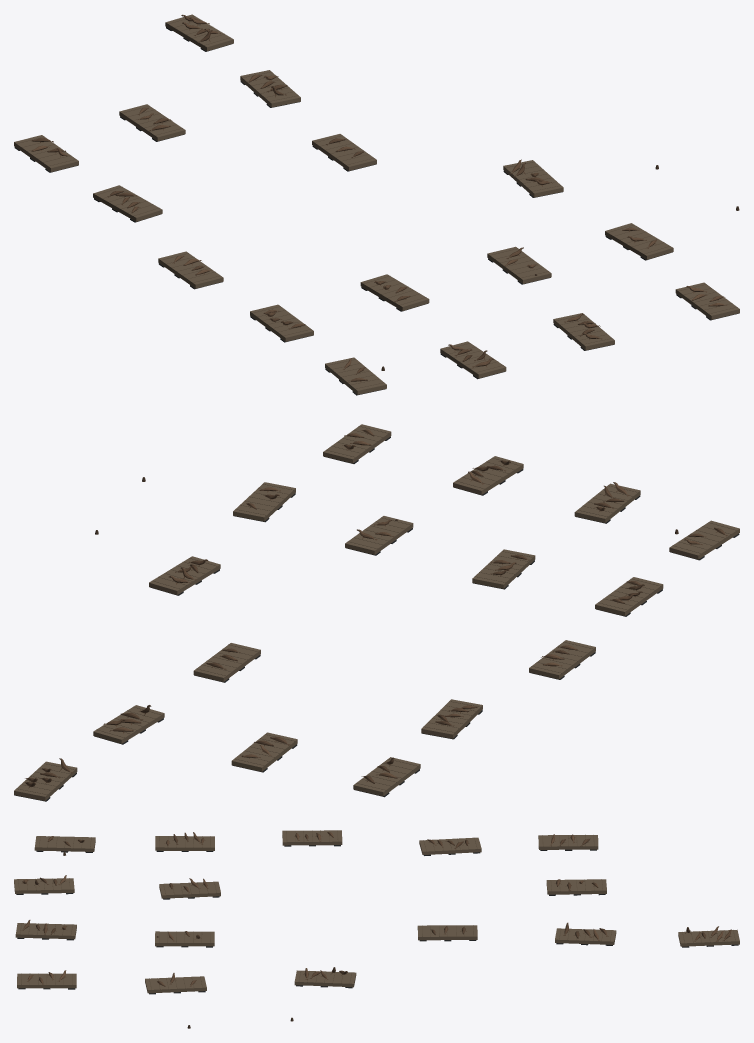
File: seaLions_lod0.glb
The picture shows the model from 3 angles, top to bottom: view 1: azimuth 30°, elevation 25°; view 2: azimuth 150°, elevation 25°; view 3: azimuth 270°, elevation 25°; orthographic projection. The views are drawn at different scales.
Visible parts, largest first — view 1: L0_wood, L0_paint, L0_plain; view 2: L0_wood, L0_paint, L0_plain; view 3: L0_wood, L0_paint, L0_plain.
Part boxes in pixels (x1,y1,x2,y2): L0_wood: (14, 14, 739, 394); L0_paint: (31, 14, 739, 382); L0_plain: (14, 27, 739, 395); L0_wood: (14, 424, 739, 800); L0_paint: (25, 429, 727, 788); L0_plain: (14, 436, 739, 801); L0_wood: (14, 830, 739, 993); L0_paint: (21, 832, 731, 1028); L0_plain: (16, 845, 738, 994).
Size of the model in its own units: 65.53 by 2.06 by 102.
